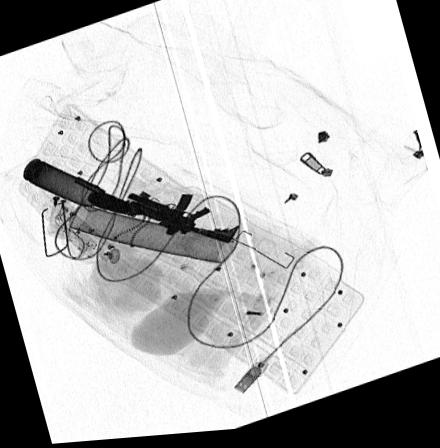Bullet: (87, 192, 147, 215)
Gun: (72, 178, 239, 248)
